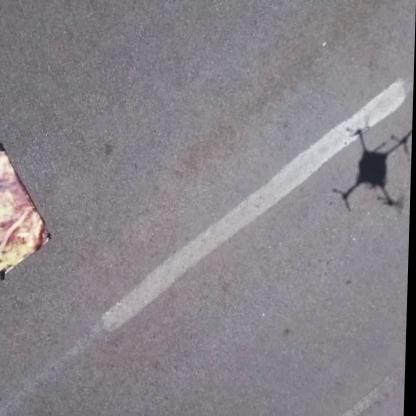fire-poster: (0, 142, 55, 284)
